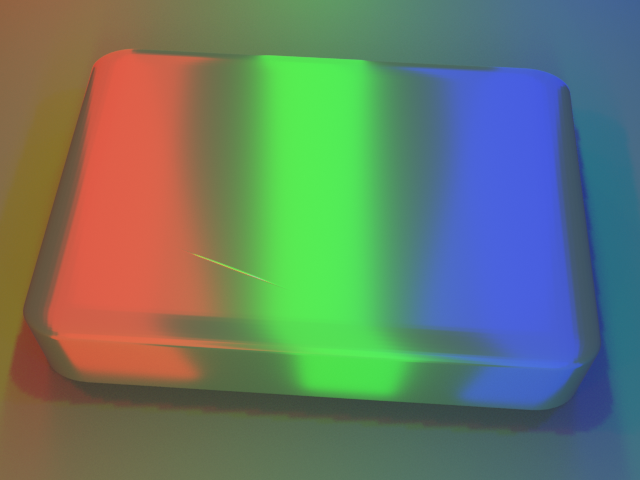scratch: (51, 177, 394, 357)
